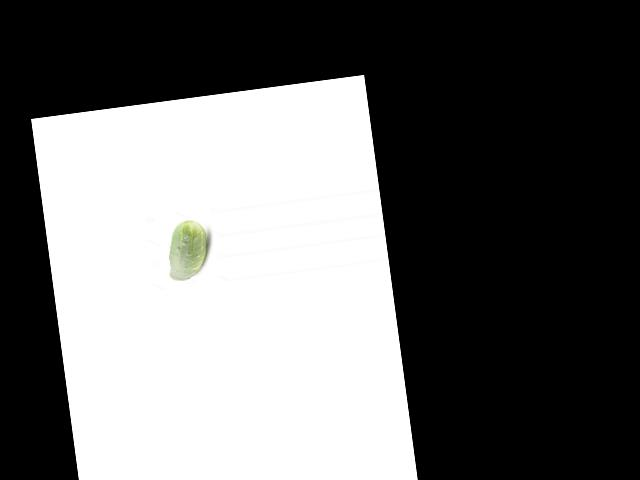cucumber: (163, 217, 212, 282)
